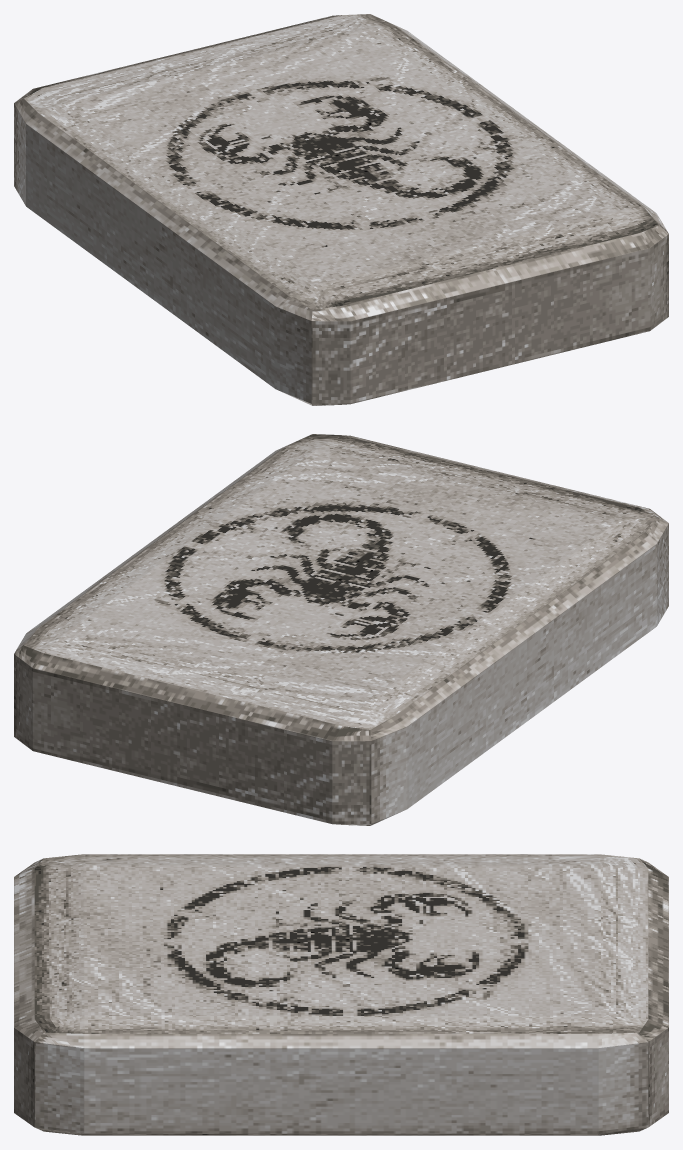
File: cokeBrick.glb
3 views of the same model, one above another, from view 1: azimuth 30°, elevation 25°; view 2: azimuth 150°, elevation 25°; view 3: azimuth 270°, elevation 25° (orthographic). The views are drawn at different scales.
Visible parts, largest first — view 1: Cube; view 2: Cube; view 3: Cube.
Part boxes in pixels (bbox=[...]): Cube: bbox=[14, 14, 668, 405]; Cube: bbox=[14, 434, 668, 825]; Cube: bbox=[14, 854, 668, 1135].
Bounding box in the file's own units: 2.12 × 0.5617 × 3.06.
Materials: 1 (1 with a texture image).
